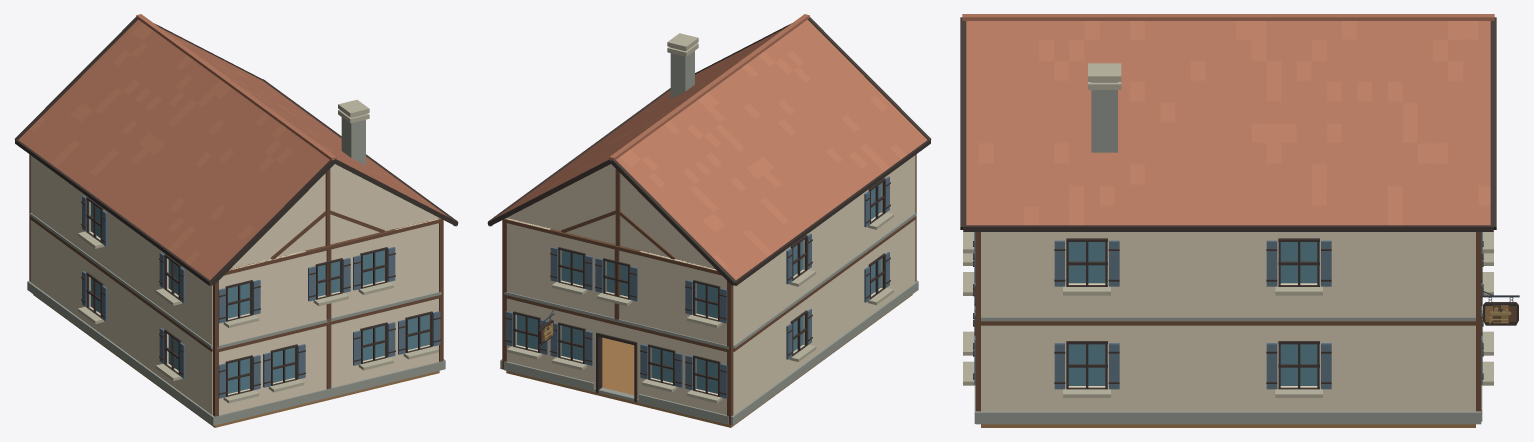
File: SM_Carpentry.glb
3 views of the same model, side by side, from view 1: azimuth 30°, elevation 25°; view 2: azimuth 150°, elevation 25°; view 3: azimuth 270°, elevation 25° (orthographic). The views are drawn at different scales.
Visible parts, largest first — view 1: SM_Carpentry; view 2: SM_Carpentry; view 3: SM_Carpentry.
Boxes of the visible parts, x1,y1,x2,y2 form: SM_Carpentry: (14,14,458,427); SM_Carpentry: (487,14,931,427); SM_Carpentry: (960,14,1519,427).
Size of the model in its own units: 11.06 by 10.54 by 15.83.
